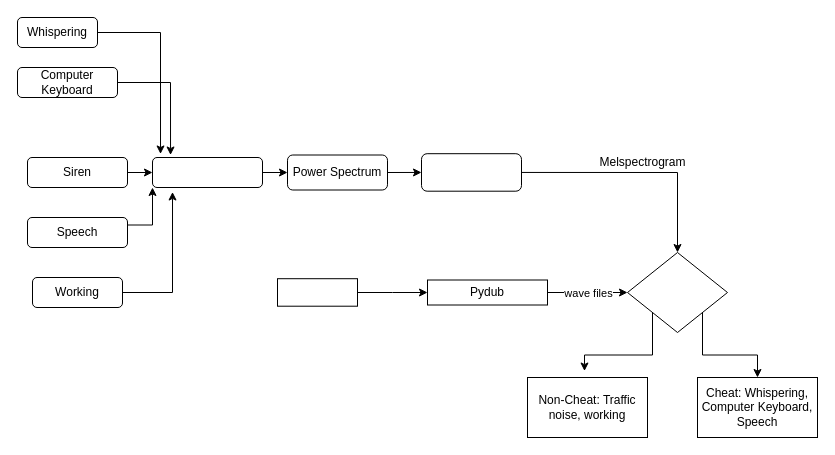
Image size: 835x455. Some labels were removed from this diagram. Each missing label, with the centre of its shape:
"CNN" goes at (x=677, y=292).
"Mel-Filterbank" goes at (x=471, y=172).
"Microphone" goes at (x=317, y=292).
"Short Time Fourier Transformation" goes at (x=207, y=172).
